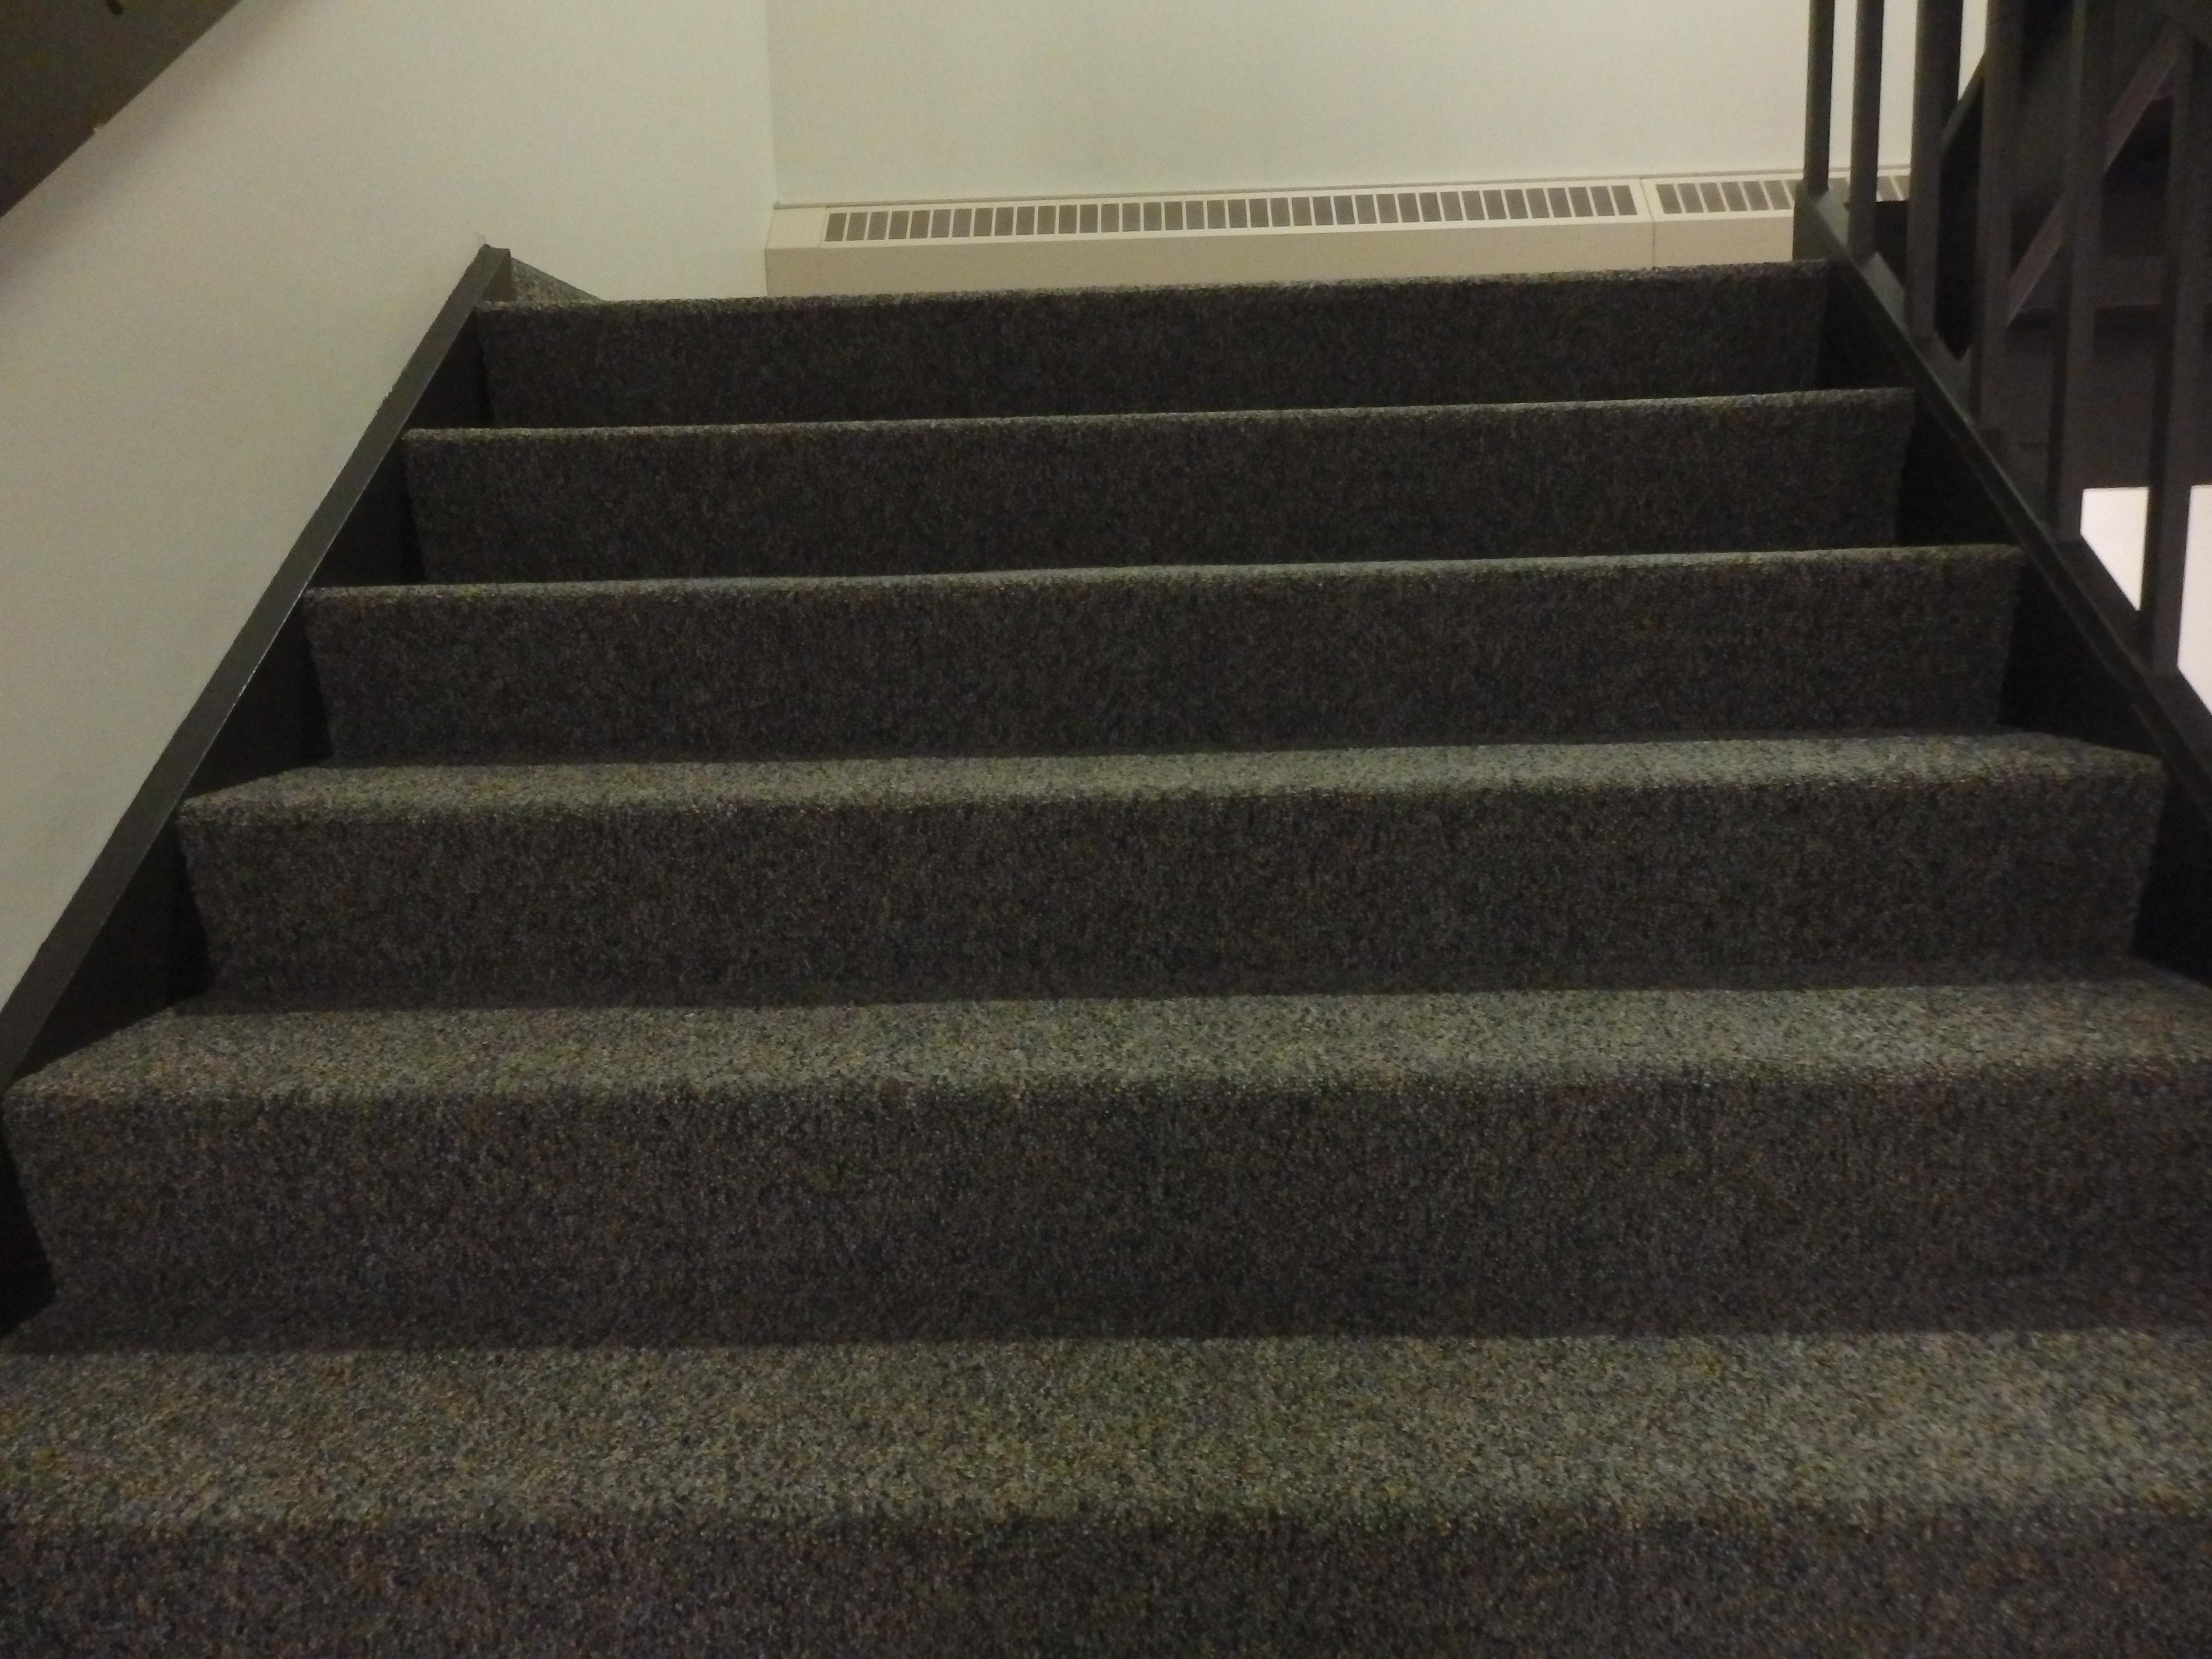stairs_up: (289, 284, 2174, 1542)
